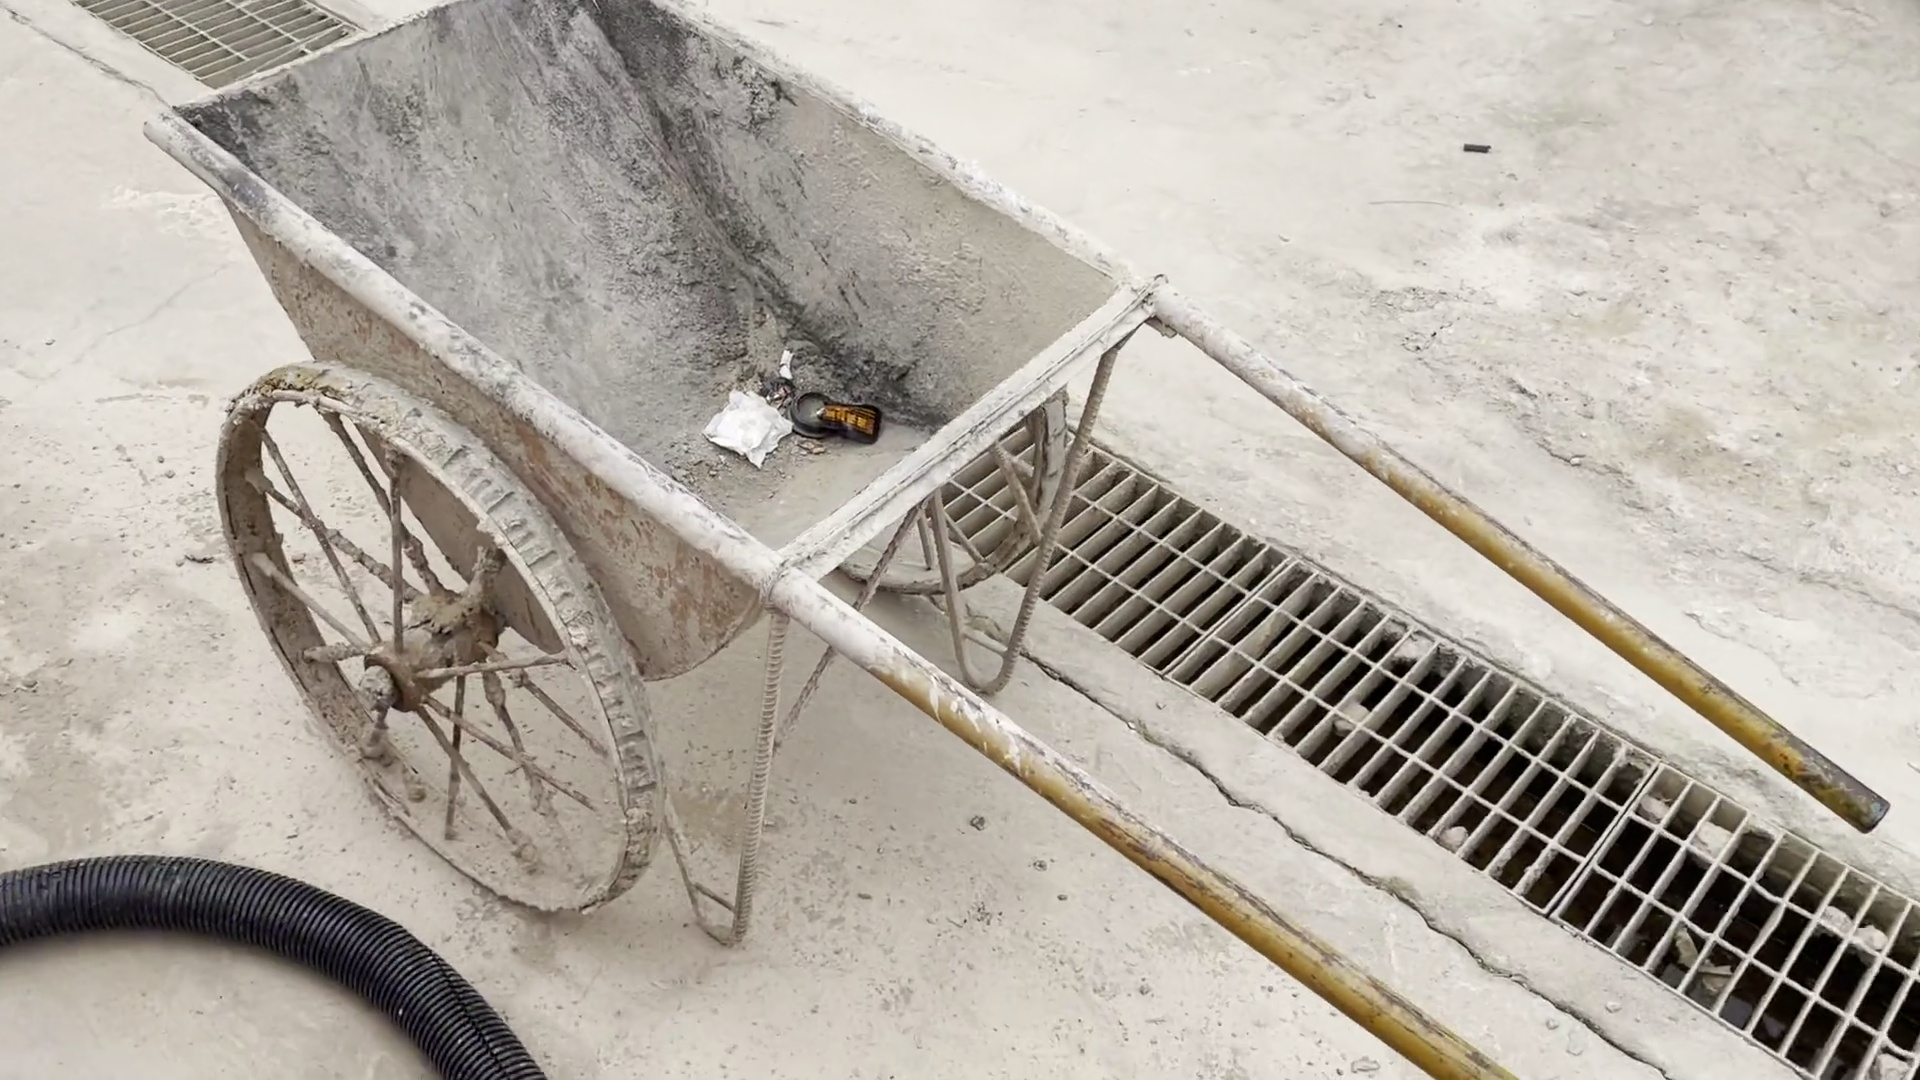handcart: (67, 9, 1911, 1080)
